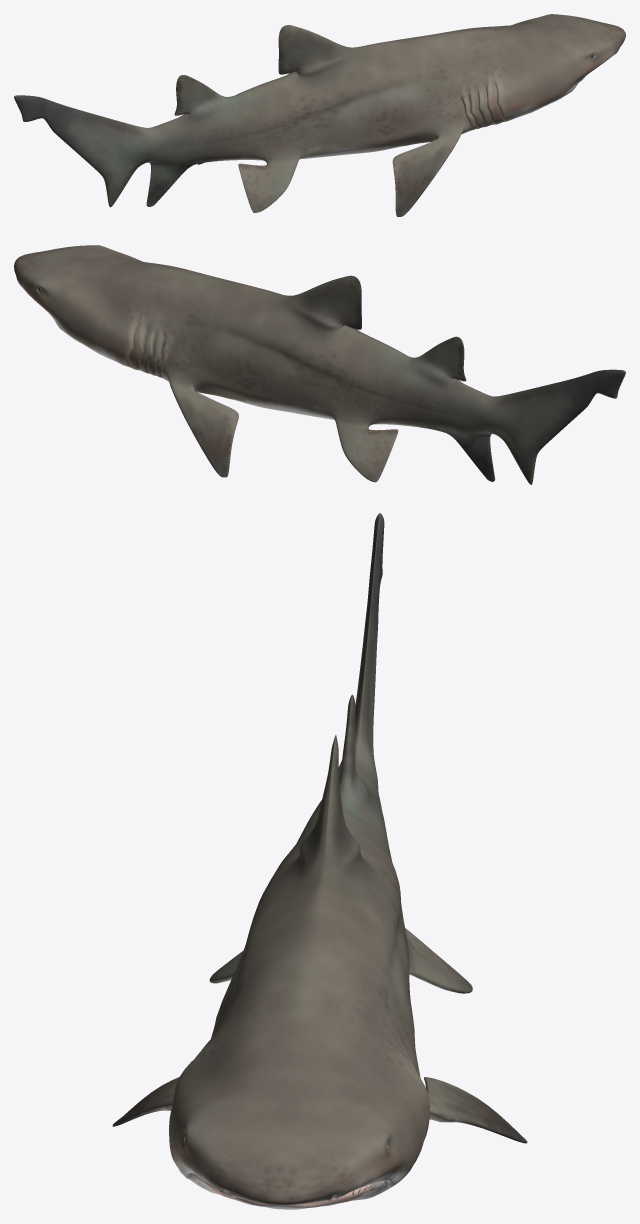
Rendered from shark.obj.
3 views of the same model, one above another, from view 1: azimuth 30°, elevation 25°; view 2: azimuth 150°, elevation 25°; view 3: azimuth 270°, elevation 25° (orthographic). The views are drawn at different scales.
Visible parts, largest first — view 1: 12960_Shark_v2; view 2: 12960_Shark_v2; view 3: 12960_Shark_v2.
Part boxes in pixels (bbox=[...]): 12960_Shark_v2: bbox=[14, 14, 625, 216]; 12960_Shark_v2: bbox=[14, 245, 625, 484]; 12960_Shark_v2: bbox=[112, 513, 527, 1209].
Bounding box in the file's own units: 9.32 × 2.55 × 2.87.
1 material, 1 textured.
